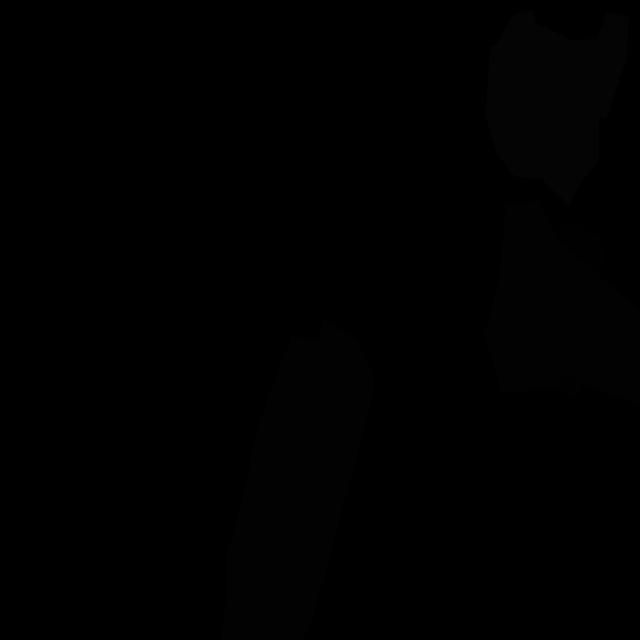cardboard: (221, 319, 374, 640), (484, 201, 640, 405)
rigid_plastic: (554, 223, 604, 276), (552, 375, 582, 398)
soft_plastic: (485, 10, 629, 205)
